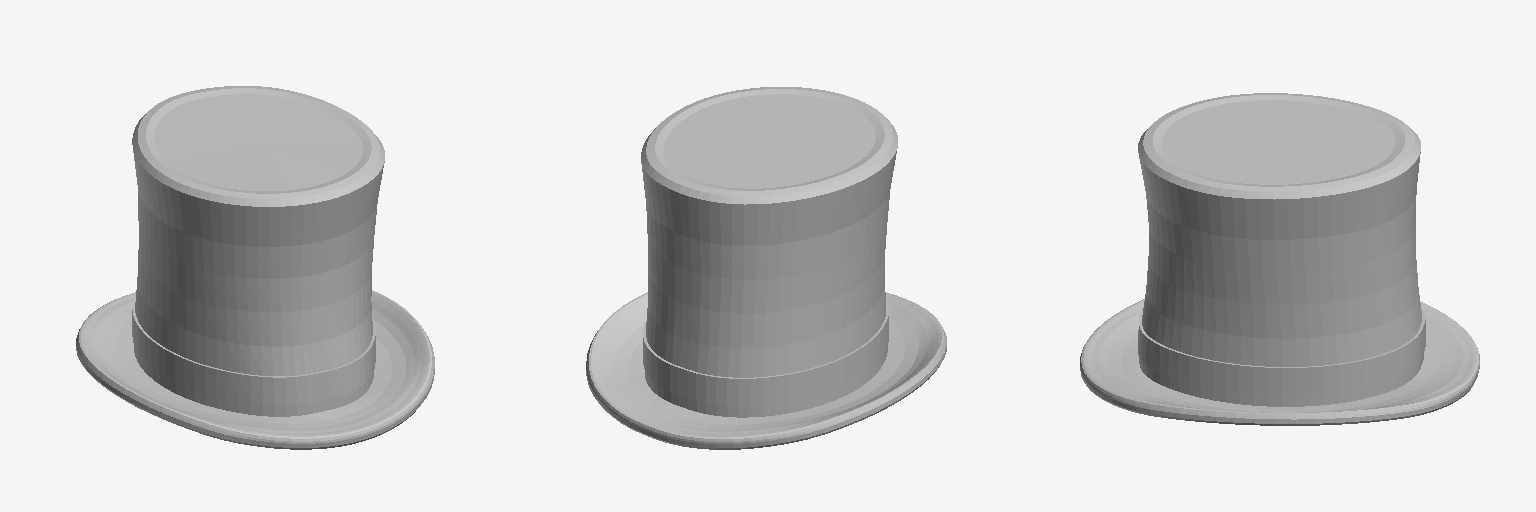
File: tophat.obj
The picture shows the model from 3 angles: view 1: azimuth 30°, elevation 25°; view 2: azimuth 150°, elevation 25°; view 3: azimuth 270°, elevation 25°; orthographic projection.
Parts seen in each view (by area): view 1: Sketchfab_Model; view 2: Sketchfab_Model; view 3: Sketchfab_Model.
Part boxes in pixels (left/top/right/bottom): Sketchfab_Model: left=76, top=86, right=434, bottom=449; Sketchfab_Model: left=586, top=87, right=946, bottom=449; Sketchfab_Model: left=1080, top=93, right=1479, bottom=425.
Bounding box in the file's own units: 3.56 × 2.65 × 4.14.